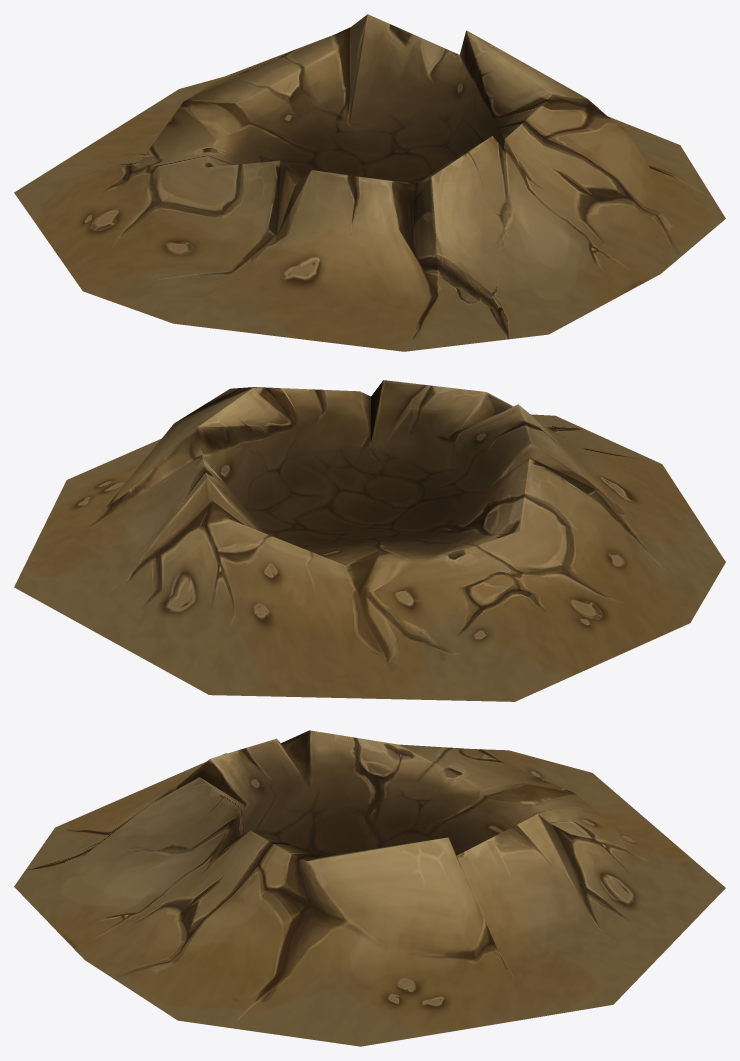
Rendered from Crater_01.fbx.
3 views of the same model, one above another, from view 1: azimuth 30°, elevation 25°; view 2: azimuth 150°, elevation 25°; view 3: azimuth 270°, elevation 25° (orthographic). The views are drawn at different scales.
Parts seen in each view (by area): view 1: Crater_01; view 2: Crater_01; view 3: Crater_01.
Boxes of the visible parts, x1,y1,x2,y2 form: Crater_01: (14,14,725,351); Crater_01: (14,380,725,701); Crater_01: (14,730,725,1046).
Size of the model in its own units: 13.44 by 2.66 by 13.66.
